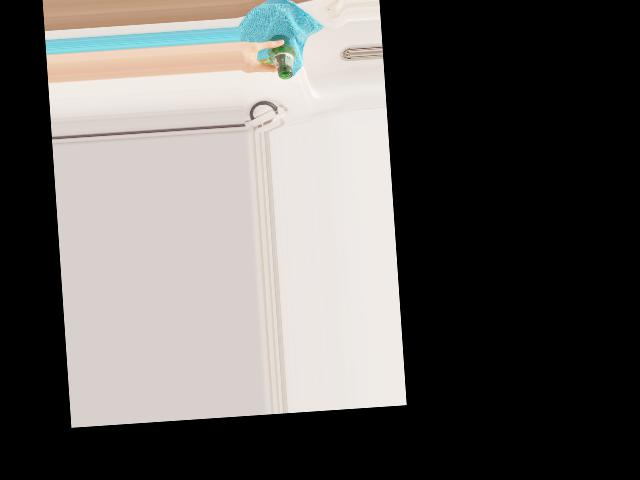beer: (268, 33, 296, 79)
